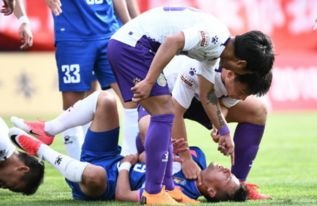falling: (0, 92, 48, 199)
